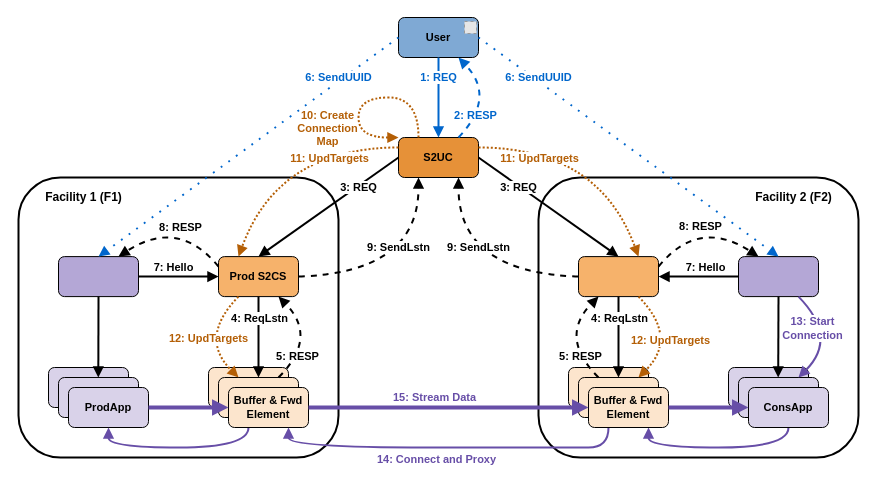
Image size: 876x495. Some labels were removed from this diagram. Grey dashed boxes stand in for pictures. The shapes that lost their labels are listed below. From the top down, each one's centre as x and y in pixels, then its label:
At point 98,276: "ProdApp Controller".
At point 618,276: "Cons S2CS".
At point 778,276: "ConsApp Controller".
